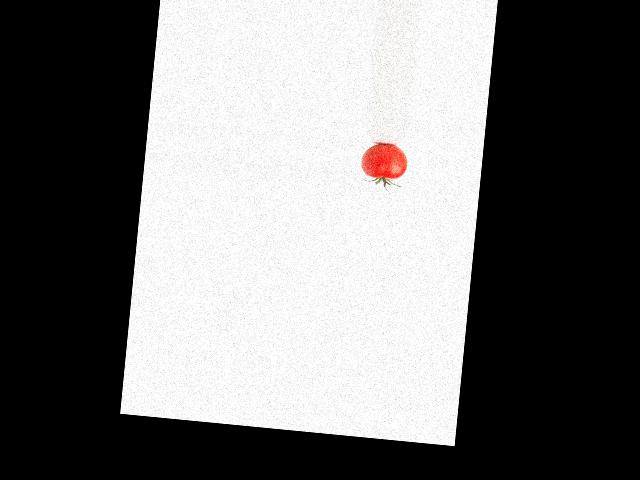tomato: (360, 142, 409, 180)
